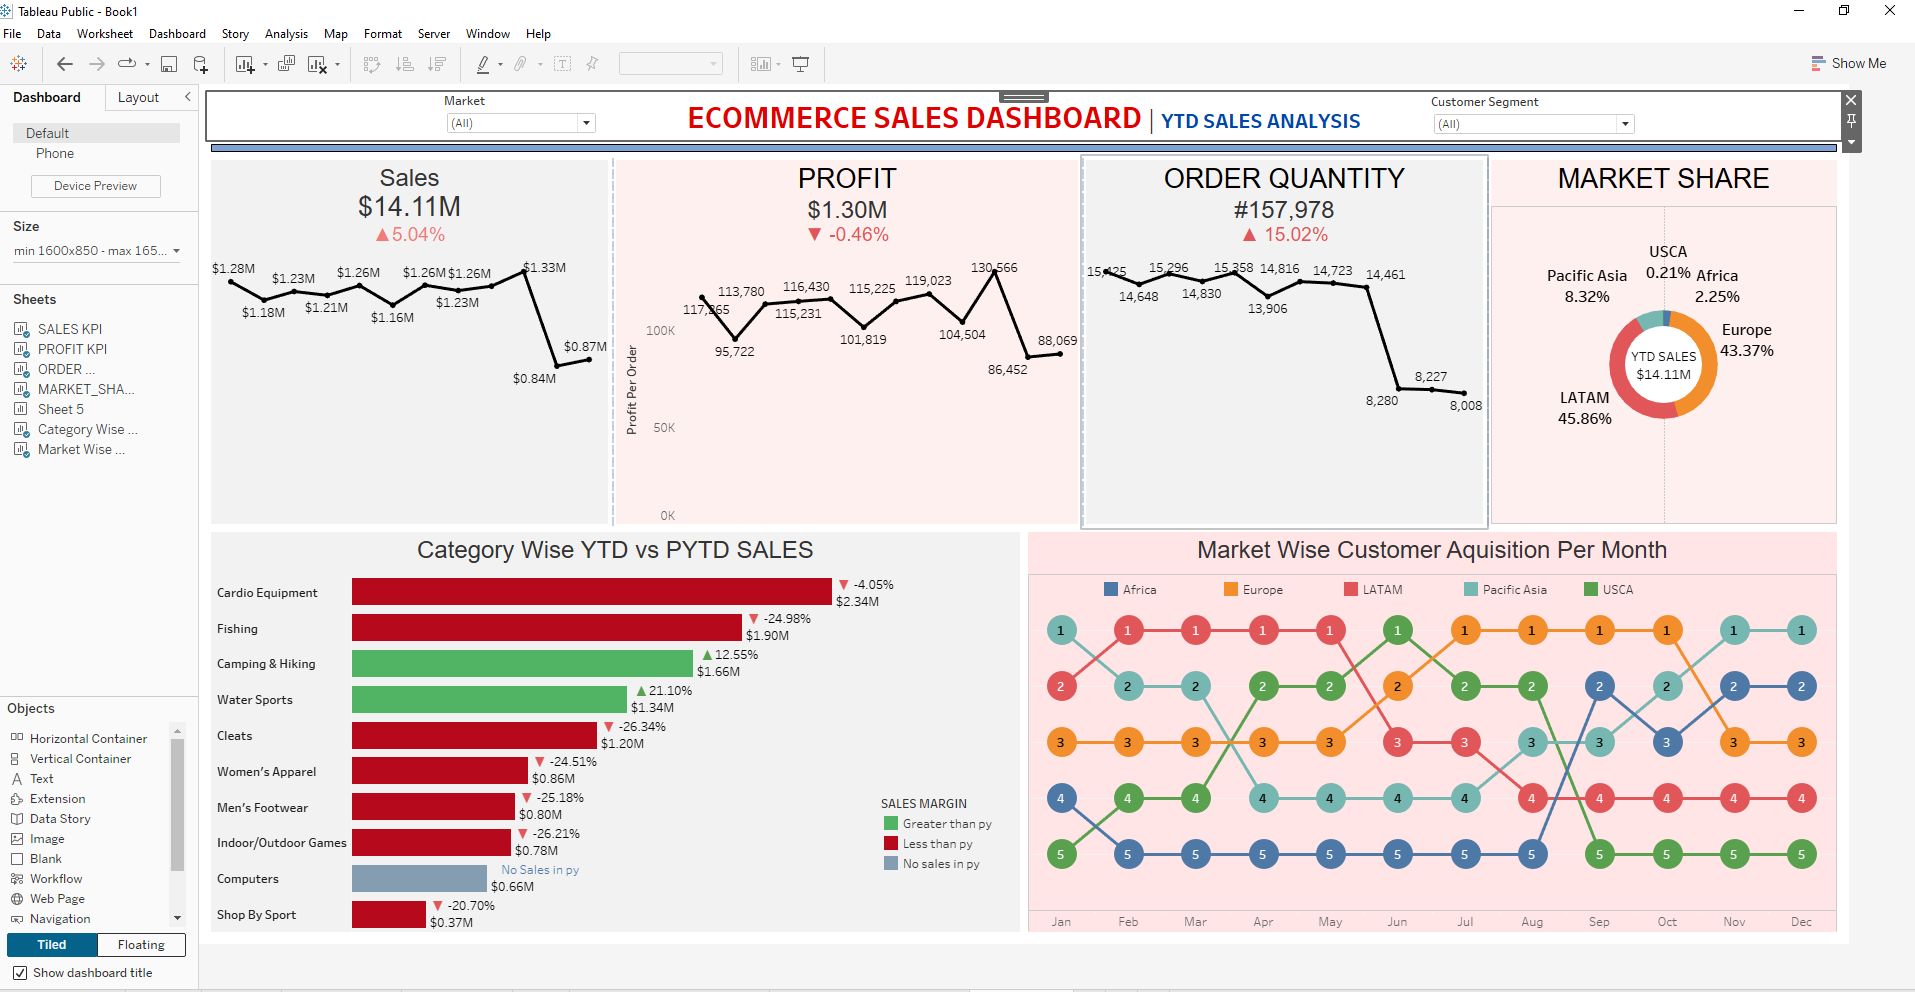

This screenshot's page, from the dashboard's own definition file:
{"tool":"tableau","page":{"name":"Dashboard 1","canvas":[1000,1000],"units":"permille","ordinal":0},"visuals":[{"type":"title","box":[4.9,9.3,990.3,55.8]},{"type":"filter","title":"SALES KPI","param":"[federated.05q9vuw0xgz9gk1cn624b1158wx8].[none:Market:nk]","box":[148.5,9.3,93.9,57]},{"type":"filter","title":"SALES KPI","param":"[federated.05q9vuw0xgz9gk1cn624b1158wx8].[none:Customer Segment:nk]","box":[746.7,10.5,125.5,51.2]},{"type":"blank","box":[4.9,65.1,990.3,18.6]},{"type":"worksheet","title":"SALES KPI","mark":"Automatic","rows":["Sales"],"cols":["Order Date"],"box":[4.9,83.7,245.2,432.6]},{"type":"worksheet","title":"PROFIT KPI","mark":"Automatic","rows":["Profit Per Order"],"cols":["Order Date"],"box":[250.1,83.7,285.2,432.6]},{"type":"worksheet","title":"ORDER QUANTITY","mark":"Automatic","rows":["Order Quantity"],"cols":["Order Date"],"box":[535.4,83.7,245.2,432.6]},{"type":"worksheet","title":"MARKET_SHARE","mark":"Pie","cols":["Calculation_193091894316601366","Calculation_193091894316630039"],"box":[780.6,83.7,214.6,432.6]},{"type":"worksheet","title":"Category Wise YTD vs PYTD SALES","mark":"Bar","rows":["Category Name"],"cols":["Calculation_193091894319009816"],"box":[4.9,516.3,495.1,474.4]},{"type":"worksheet","title":"Market Wise Customer Aquisition Per Month","mark":"Automatic","cols":["Order Date"],"box":[500,516.3,495.2,474.4]},{"type":"legend","title":"Market Wise Customer Aquisition Per Month","param":"[federated.05q9vuw0xgz9gk1cn624b1158wx8].[none:Market:nk]","box":[503,575.6,490.9,29.1]},{"type":"legend","title":"Category Wise YTD vs PYTD SALES","param":"[federated.05q9vuw0xgz9gk1cn624b1158wx8].[usr:Calculation_193091894652239899:nk]","box":[413.3,826.7,75.2,131.4]}]}

Visuals, with their boxes on the dashboard's canvas, which has no fixed pixel size, in thousandths of its width and height (x1, y1, x2, y2). These are canvas units, not pixel positions in the 1915x992 screenshot, which may show the page scaled, cropped or inside an application window:
title: 5:9:995:65
"SALES KPI" filter: 148:9:242:66
"SALES KPI" filter: 747:10:872:62
blank: 5:65:995:84
"SALES KPI" worksheet: 5:84:250:516
"PROFIT KPI" worksheet: 250:84:535:516
"ORDER QUANTITY" worksheet: 535:84:781:516
"MARKET_SHARE" worksheet (Pie marks): 781:84:995:516
"Category Wise YTD vs PYTD SALES" worksheet (Bar marks): 5:516:500:991
"Market Wise Customer Aquisition Per Month" worksheet: 500:516:995:991
"Market Wise Customer Aquisition Per Month" legend: 503:576:994:605
"Category Wise YTD vs PYTD SALES" legend: 413:827:488:958
